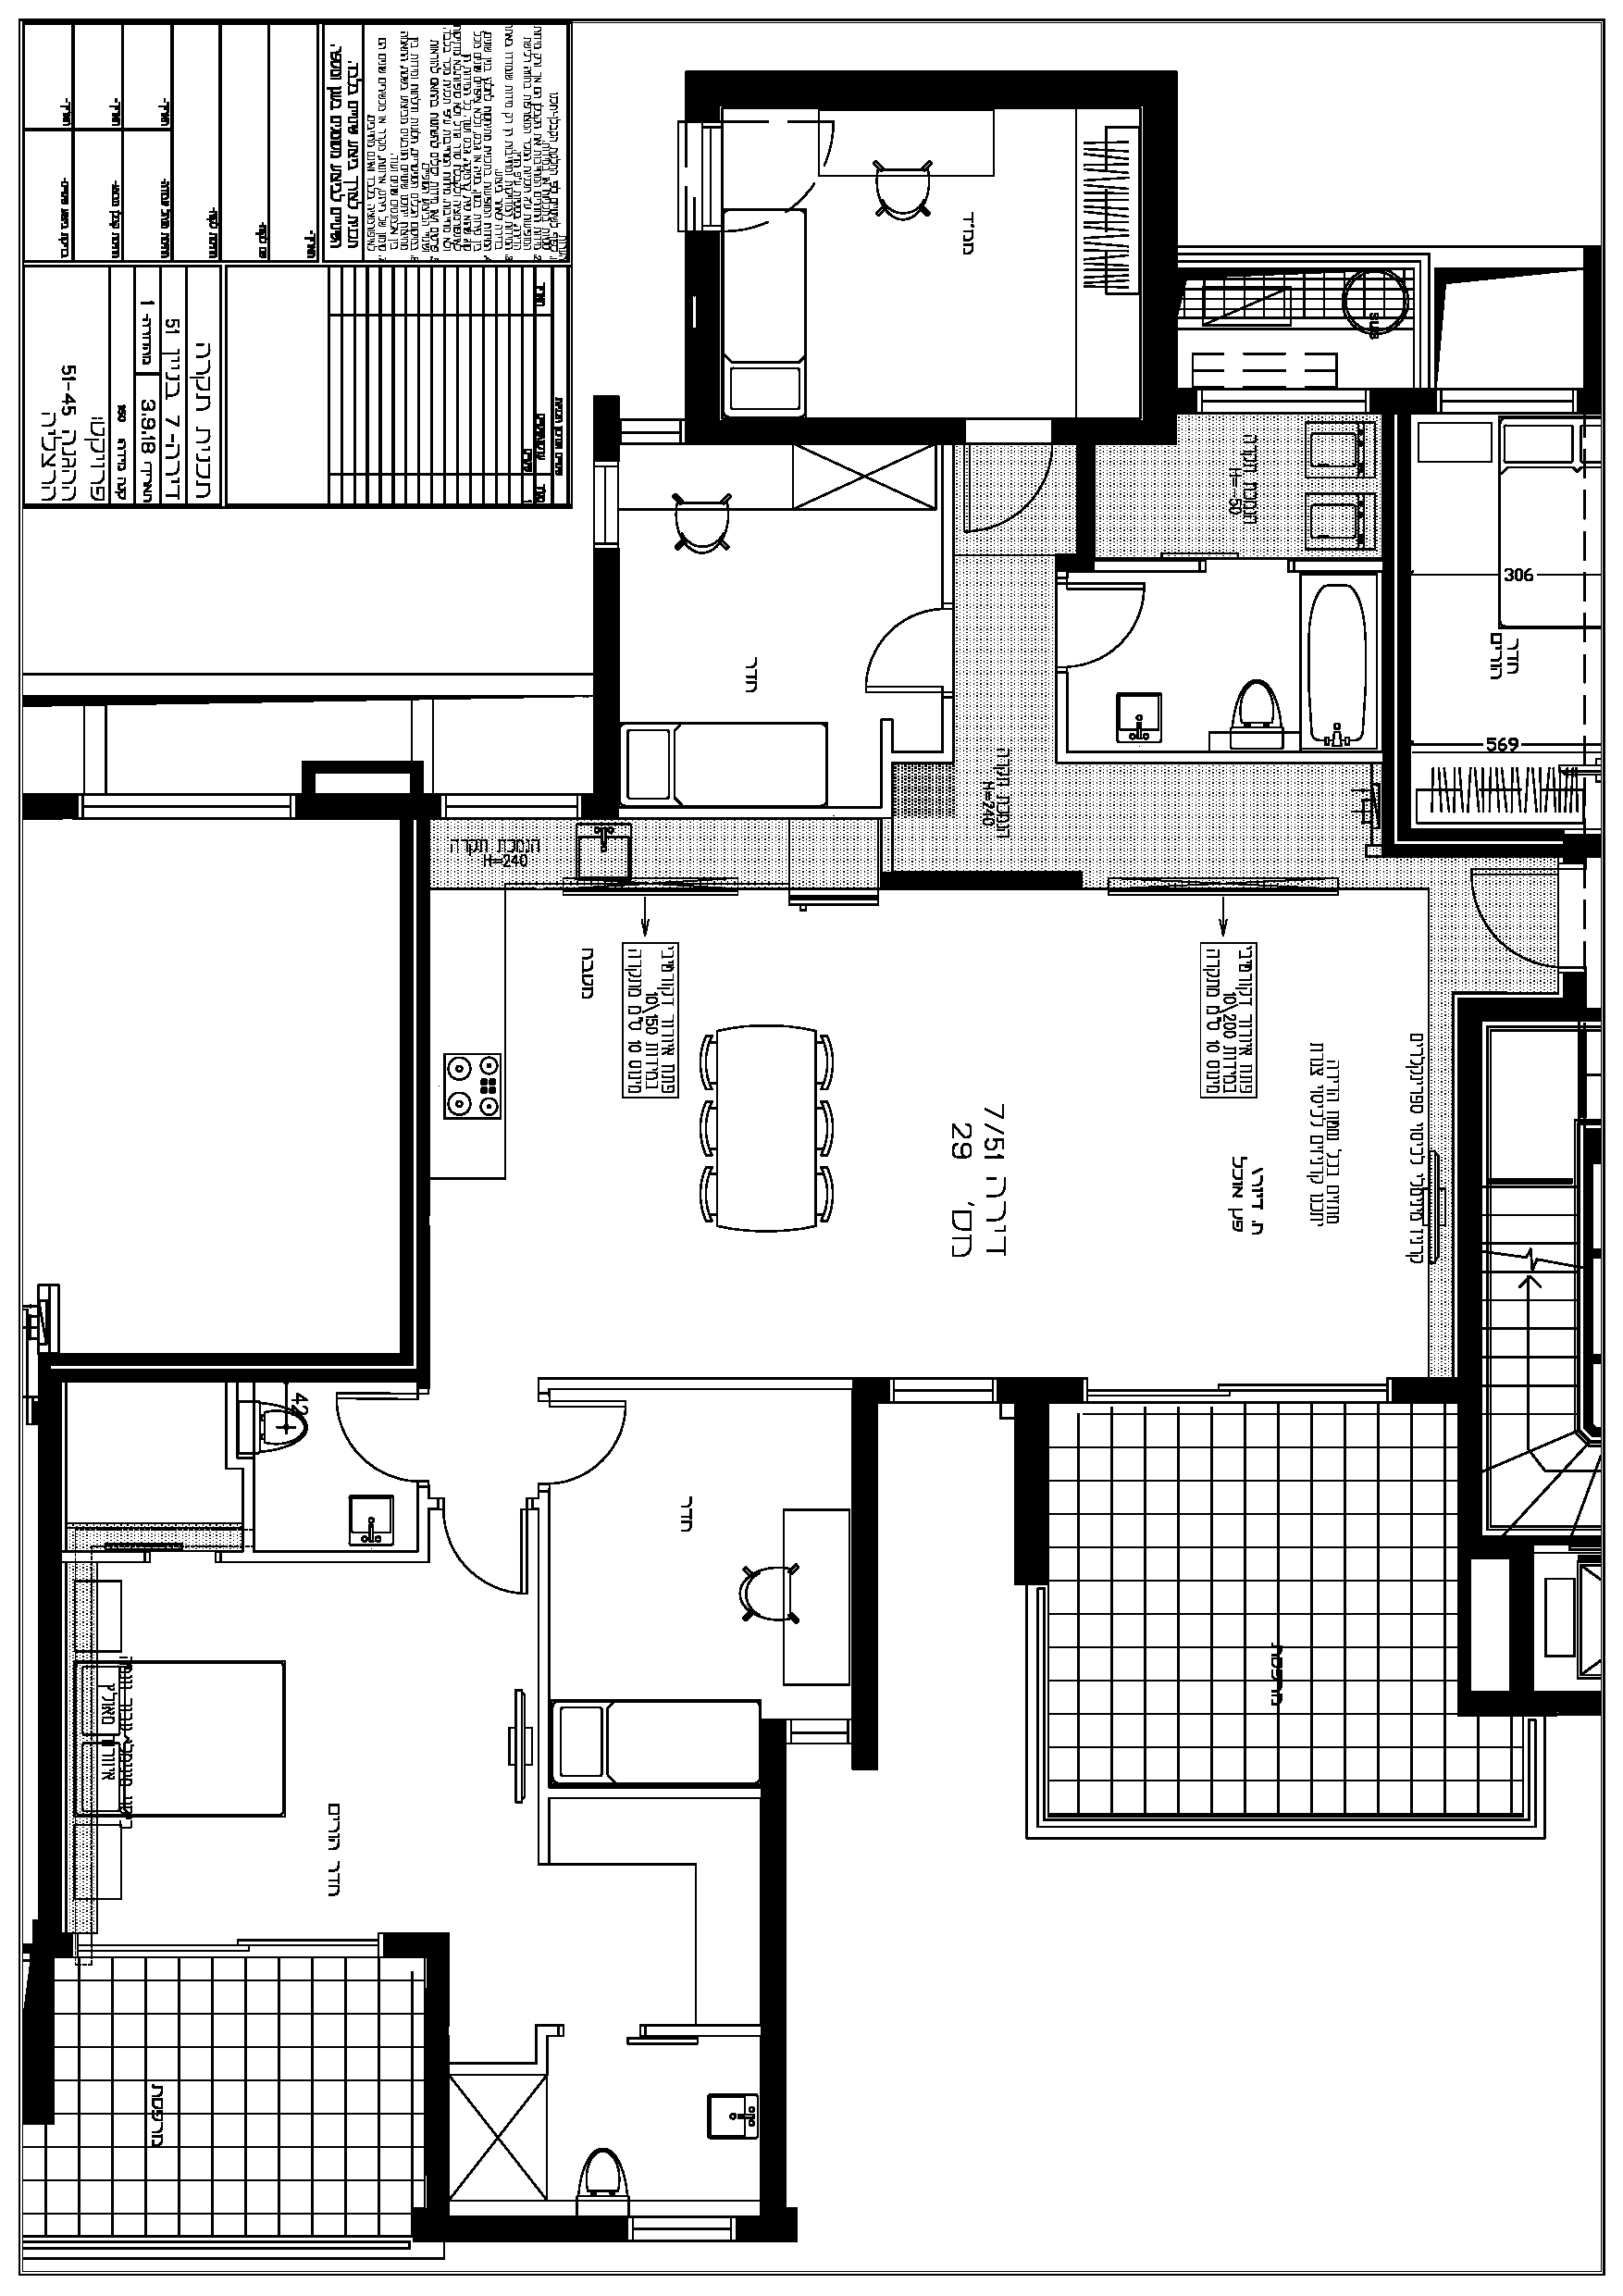room: (687, 70, 1177, 444), (592, 416, 894, 819), (1057, 553, 1410, 766)
